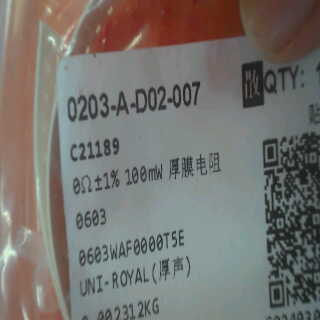0R: (69, 166, 123, 231)
